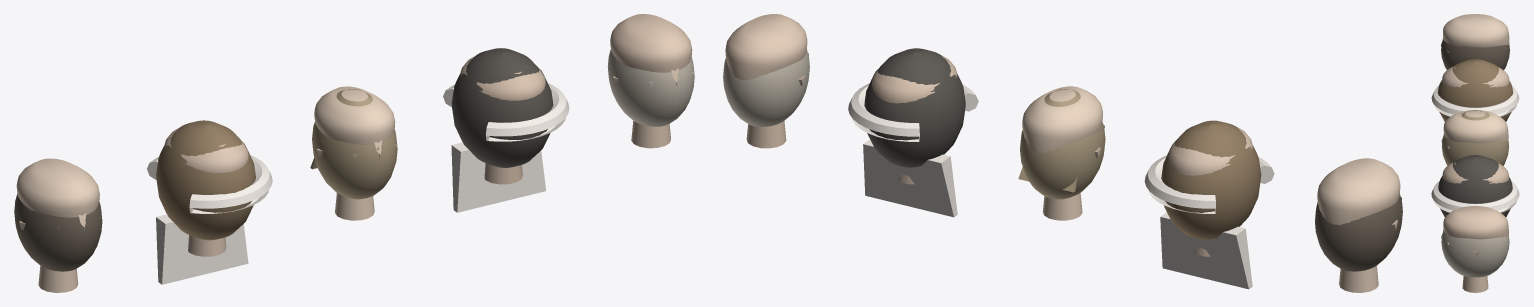
Rendered from tls_chr_022_heads_female_v001.fbx.
3 renders of one model, left to right at view 1: azimuth 30°, elevation 25°; view 2: azimuth 150°, elevation 25°; view 3: azimuth 270°, elevation 25°, orthographic. The views are drawn at different scales.
Visible parts, largest first — view 1: Head_F4, Head_F2, Head_F1, Head_F5, Head_F3; view 2: Head_F4, Head_F2, Head_F1, Head_F5, Head_F3; view 3: Head_F5, Head_F2, Head_F4, Head_F1, Head_F3.
Part boxes in pixels (x1,y1,x2,y2): Head_F4: (443,48,569,212); Head_F2: (147,120,272,284); Head_F1: (14,158,102,292); Head_F5: (607,14,694,148); Head_F3: (310,86,397,220); Head_F4: (848,48,978,217); Head_F2: (1144,120,1274,289); Head_F1: (1315,158,1402,292); Head_F5: (723,14,809,148); Head_F3: (1018,86,1105,220); Head_F5: (1441,206,1509,292); Head_F2: (1431,59,1519,121); Head_F4: (1431,155,1519,216); Head_F1: (1441,14,1509,69); Head_F3: (1441,110,1509,165).
Size of the model in its own units: 1.35 by 0.2327 by 0.2905.
